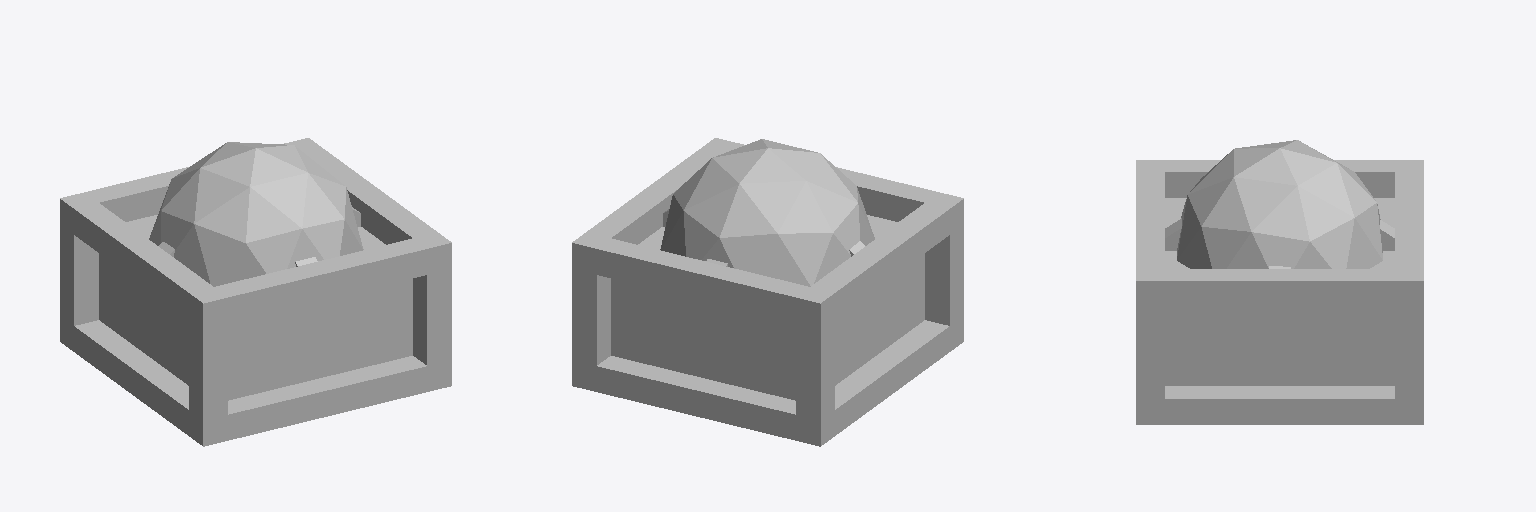
File: Radar.obj
The picture shows the model from 3 angles: view 1: azimuth 30°, elevation 25°; view 2: azimuth 150°, elevation 25°; view 3: azimuth 270°, elevation 25°; orthographic projection.
Visible parts, largest first — view 1: FrameCube; view 2: FrameCube; view 3: FrameCube.
Boxes of the visible parts, x1=… form: FrameCube: x1=60, y1=138, x2=451, y2=446; FrameCube: x1=572, y1=138, x2=963, y2=446; FrameCube: x1=1136, y1=140, x2=1423, y2=424.
Size of the model in its own units: 1 by 0.828 by 1.